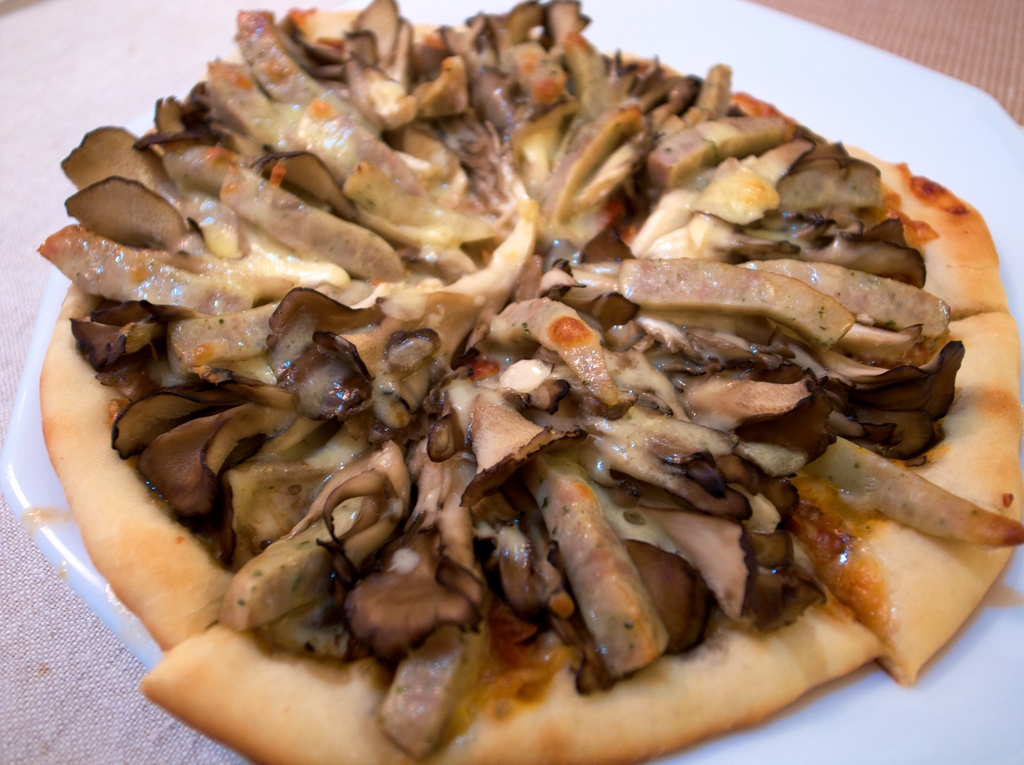Pizza: (44, 26, 1023, 731)
